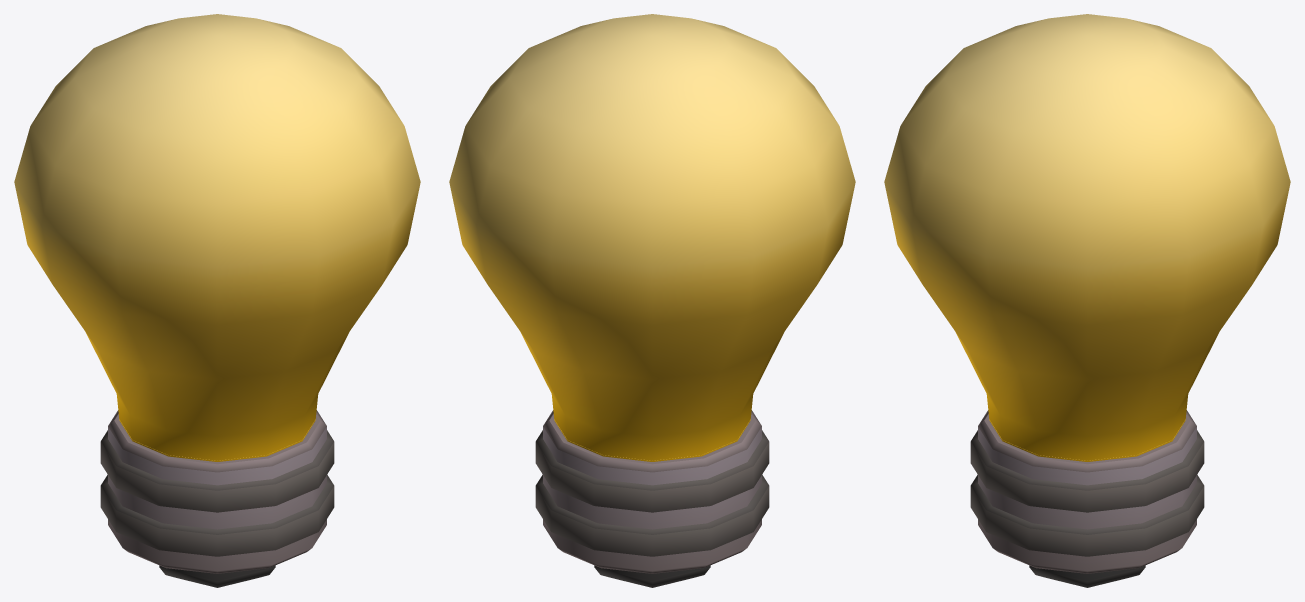
Rendered from IconModel_Bulb.fbx.
The picture shows the model from 3 angles, left to right: view 1: azimuth 30°, elevation 25°; view 2: azimuth 150°, elevation 25°; view 3: azimuth 270°, elevation 25°; orthographic projection.
Visible parts, largest first — view 1: Icon_Bulb_GEO; view 2: Icon_Bulb_GEO; view 3: Icon_Bulb_GEO.
Part boxes in pixels (bbox=[...]): Icon_Bulb_GEO: bbox=[14, 14, 420, 587]; Icon_Bulb_GEO: bbox=[449, 14, 855, 587]; Icon_Bulb_GEO: bbox=[884, 14, 1290, 587].
Size of the model in its own units: 24.86 by 35.98 by 24.86.
